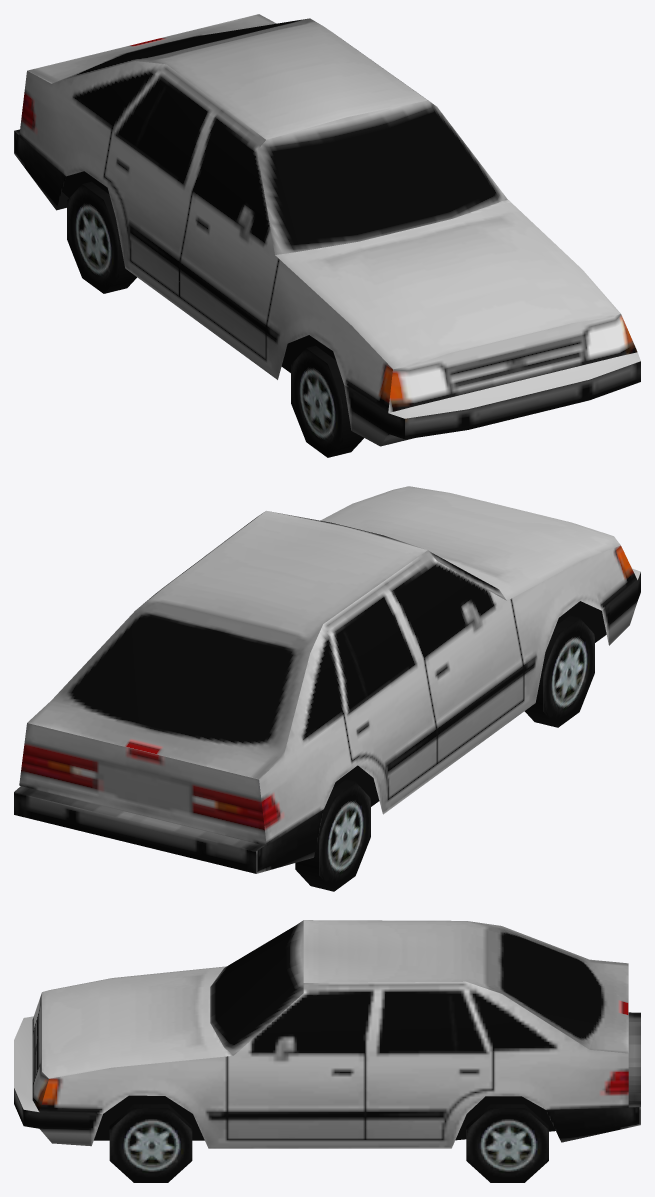
The model's file is Car_FordEscort.fbx.
The picture shows the model from 3 angles, top to bottom: view 1: azimuth 30°, elevation 25°; view 2: azimuth 150°, elevation 25°; view 3: azimuth 270°, elevation 25°; orthographic projection. The views are drawn at different scales.
Visible parts, largest first — view 1: Car_FordEscort; view 2: Car_FordEscort; view 3: Car_FordEscort.
Part boxes in pixels (x1=…): Car_FordEscort: x1=14, y1=14, x2=640, y2=457; Car_FordEscort: x1=14, y1=486, x2=640, y2=891; Car_FordEscort: x1=14, y1=920, x2=640, y2=1182.
Size of the model in its own units: 1.55 by 1.34 by 4.11.
